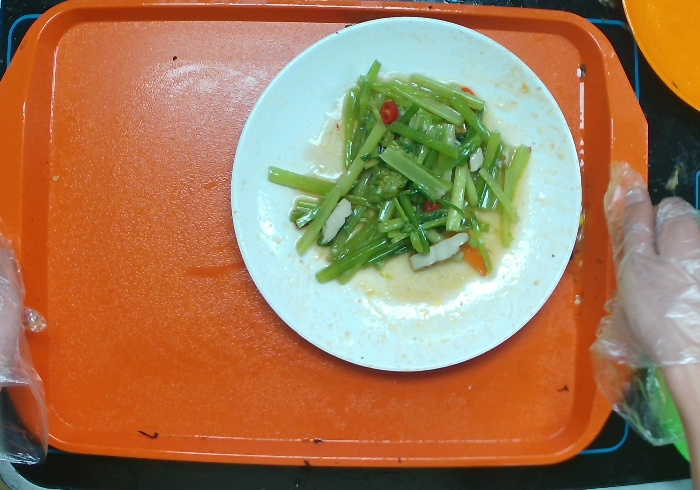HZYJPL-Bai_Se_Yuan_Pan: (233, 16, 582, 373)
